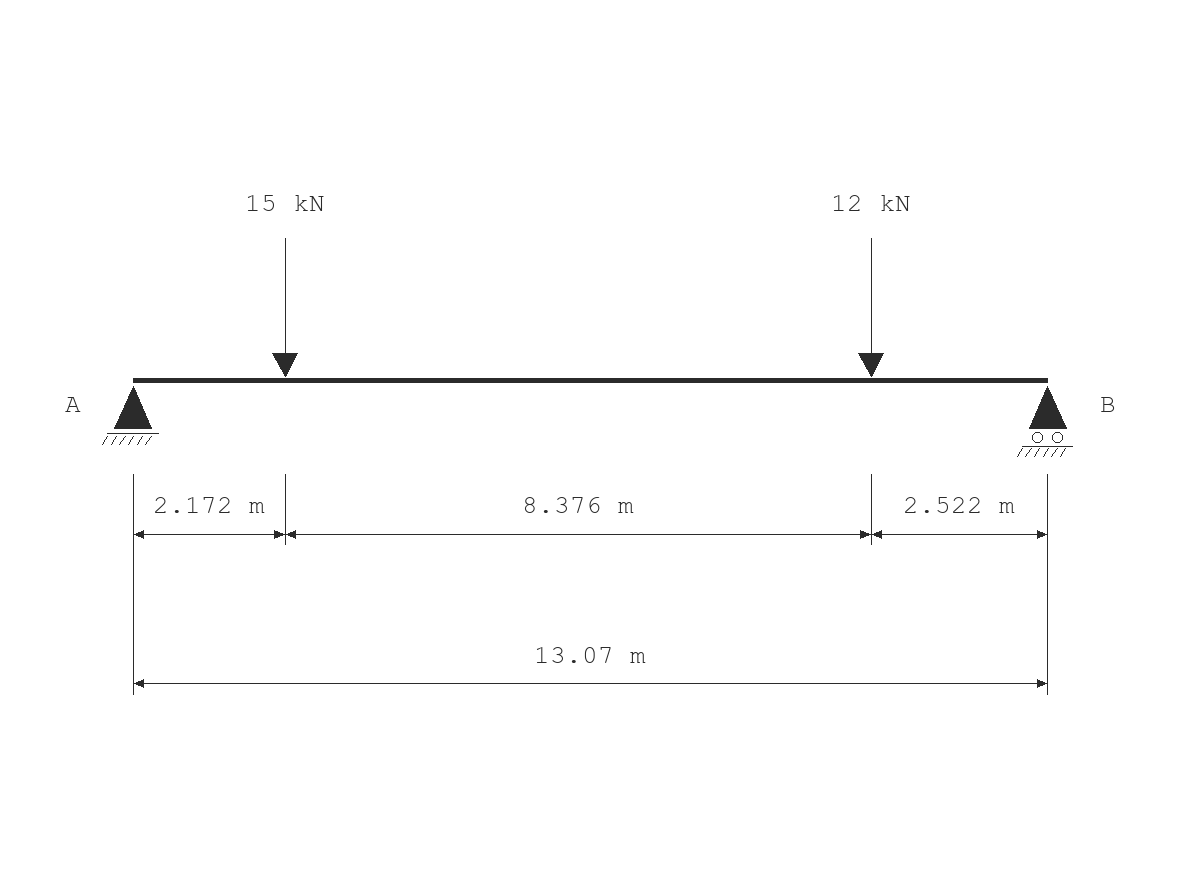pin_support: (102, 386, 159, 445)
point_load: (272, 238, 298, 377), (858, 238, 884, 377)
roller_support: (1017, 386, 1073, 457)
